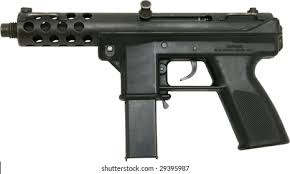gun: (1, 2, 290, 157)
